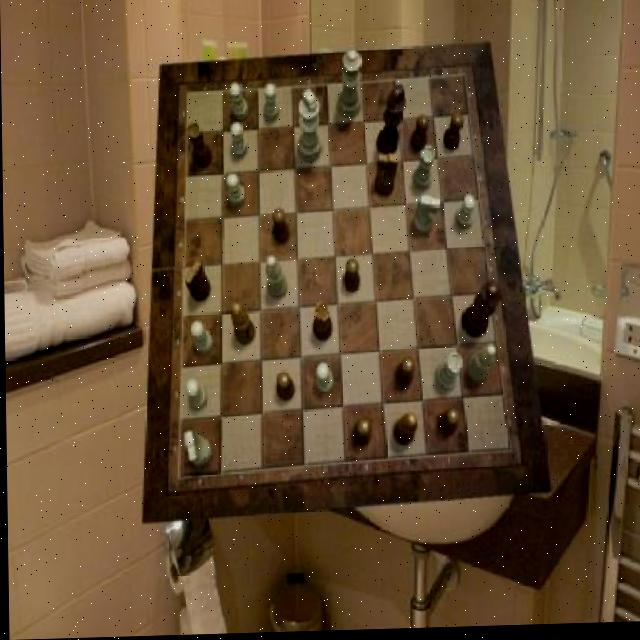bishop: (231, 303, 256, 346), (391, 415, 416, 450)
black-bishop: (375, 87, 406, 161)
black-king: (183, 260, 211, 303), (374, 155, 398, 200)
black-knight: (443, 115, 464, 153), (409, 116, 429, 154), (393, 359, 415, 391), (436, 411, 459, 439), (343, 261, 361, 295), (272, 210, 289, 245), (275, 373, 293, 405), (351, 421, 371, 449)
black-pawn: (459, 284, 502, 342)
black-queen: (188, 124, 213, 170), (312, 303, 331, 344)
black-rook: (466, 347, 496, 386), (264, 258, 287, 302)
white-bishop: (297, 89, 321, 164)
white-king: (413, 198, 441, 237), (184, 431, 211, 467)
white-knight: (190, 323, 213, 357), (229, 84, 248, 122), (455, 198, 475, 233), (186, 380, 206, 413), (227, 176, 246, 210), (263, 84, 279, 123), (231, 124, 248, 160), (315, 364, 333, 396)
white-pawn: (337, 52, 363, 121)
white-queen: (411, 148, 434, 194), (435, 356, 462, 395)
